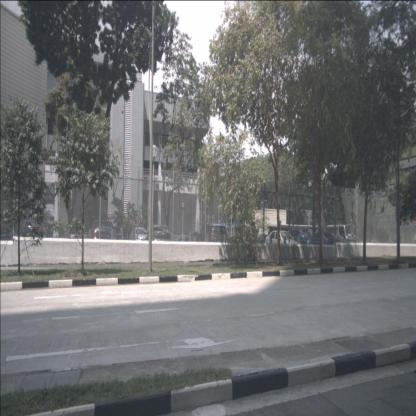vehicle-car: (196, 224, 229, 252), (265, 230, 299, 253), (286, 229, 314, 253), (92, 220, 116, 248), (22, 218, 43, 246), (147, 225, 171, 248), (312, 232, 334, 250), (131, 227, 149, 246)
vehicle-truck: (327, 224, 356, 250)
